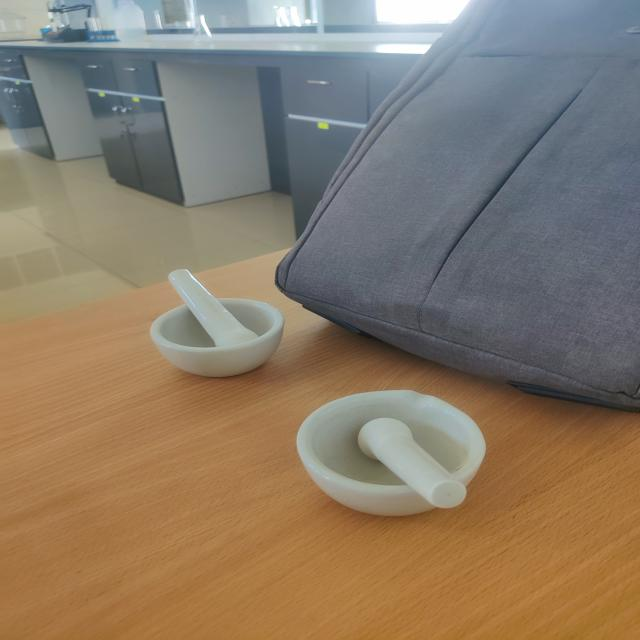Porcelain_Mortar Pestle: (272, 352, 506, 536), (132, 246, 300, 388)
